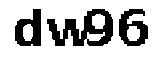6: (118, 5, 153, 51)
9: (87, 7, 116, 52)
d: (10, 7, 44, 50)
w: (45, 17, 90, 49)
